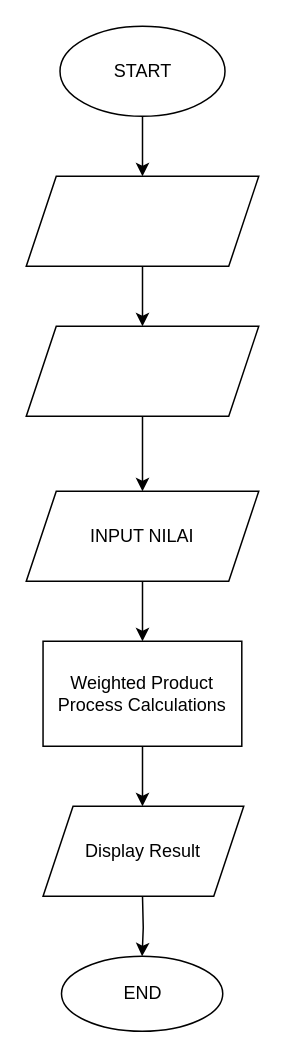
Some shapes in this 285 by 1058 pixel diagram are drawn without their labels. The centre of each missing label's shape, as x and y in pixels:
"INPUT ALTERNATIF" belongs at (142,220).
"INPUT KRITERIA" belongs at (142,370).
